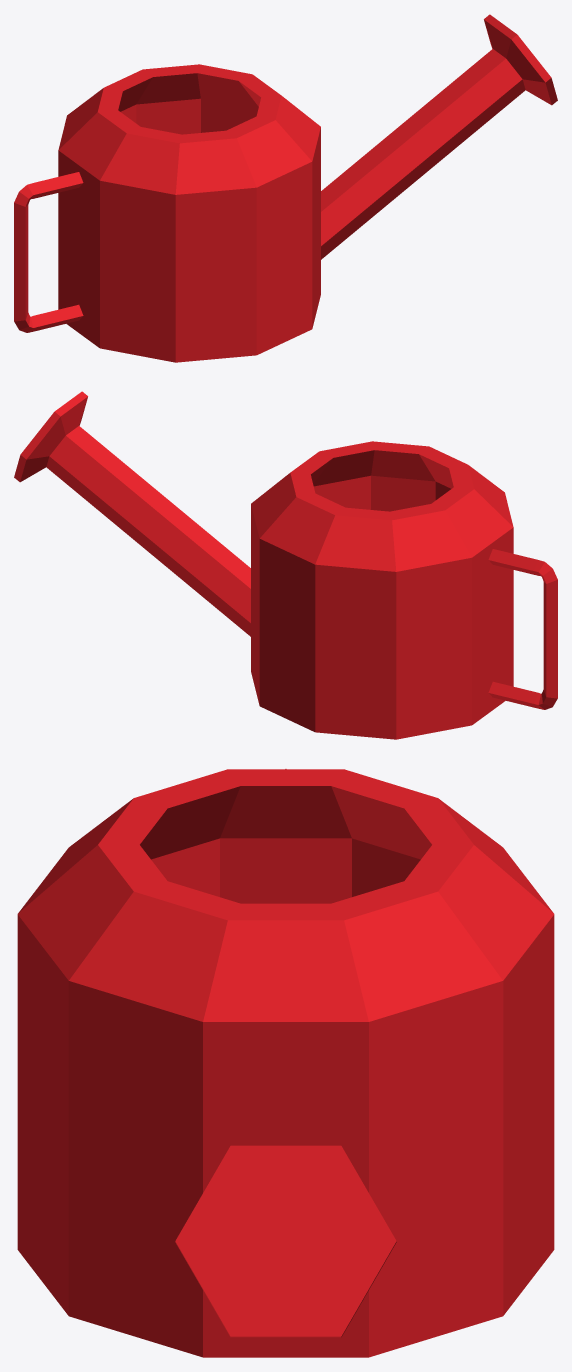
File: watering can.fbx
3 views of the same model, one above another, from view 1: azimuth 30°, elevation 25°; view 2: azimuth 150°, elevation 25°; view 3: azimuth 270°, elevation 25° (orthographic). The views are drawn at different scales.
Parts seen in each view (by area): view 1: Watering Can; view 2: Watering Can; view 3: Watering Can.
Boxes of the visible parts, x1=… form: Watering Can: x1=14, y1=14, x2=557, y2=362; Watering Can: x1=14, y1=391, x2=557, y2=739; Watering Can: x1=17, y1=769, x2=554, y2=1357.
Bounding box in the file's own units: 82.44 × 30.5 × 36.15.
